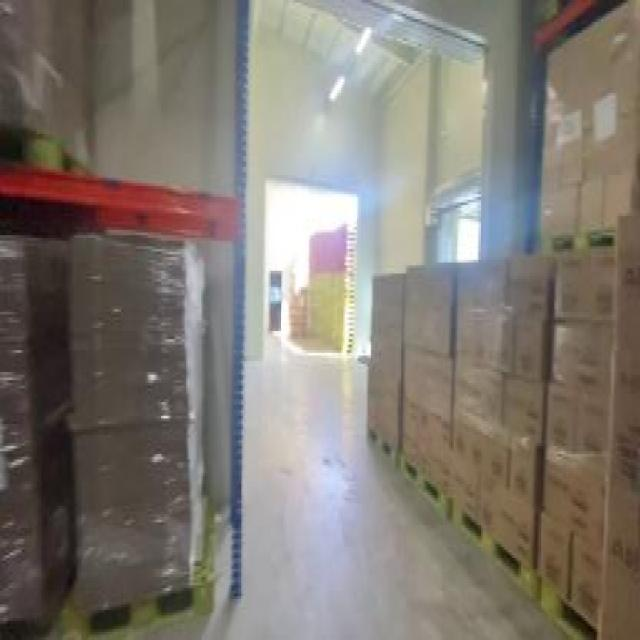box: (363, 257, 637, 637), (63, 216, 219, 610), (0, 230, 74, 634), (538, 14, 638, 265), (284, 218, 356, 356)
